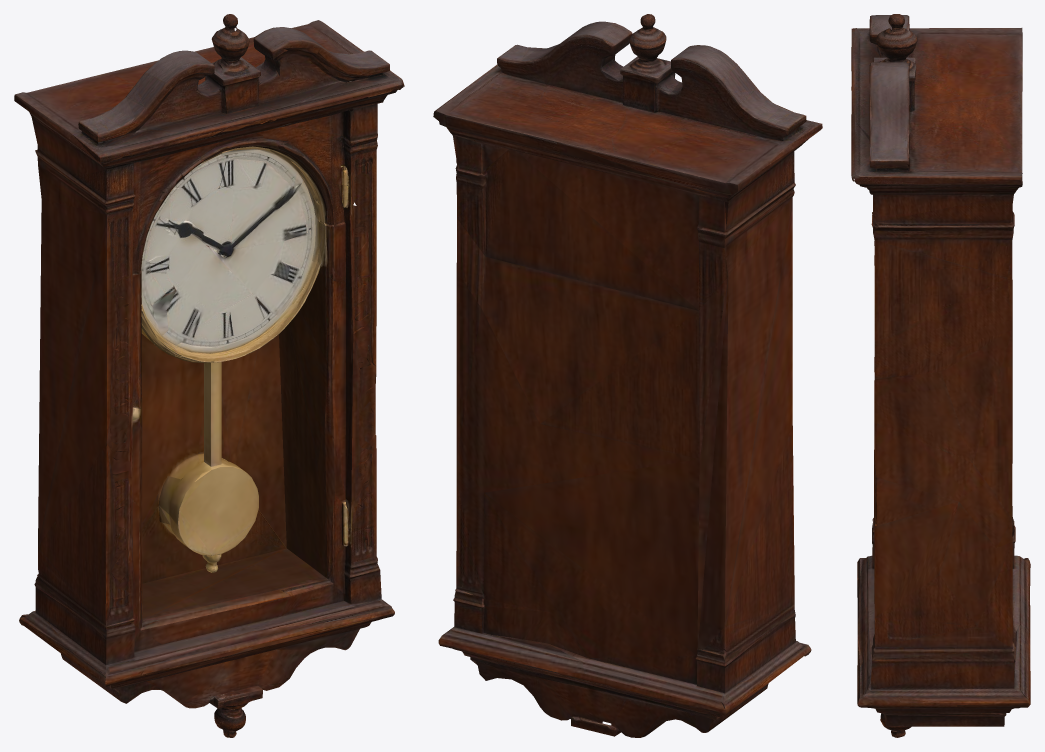
Rendered from w5wallclock.glb.
3 views of the same model, side by side, from view 1: azimuth 30°, elevation 25°; view 2: azimuth 150°, elevation 25°; view 3: azimuth 270°, elevation 25° (orthographic).
Visible parts, largest first — view 1: output_unwrapped; view 2: output_unwrapped; view 3: output_unwrapped.
Boxes of the visible parts, x1,y1,x2,y2 form: output_unwrapped: (14, 14, 404, 737); output_unwrapped: (433, 14, 822, 737); output_unwrapped: (851, 14, 1030, 737).
Size of the model in its own units: 0.2457 by 0.55 by 0.1238.
Materials: 1 (1 with a texture image).
